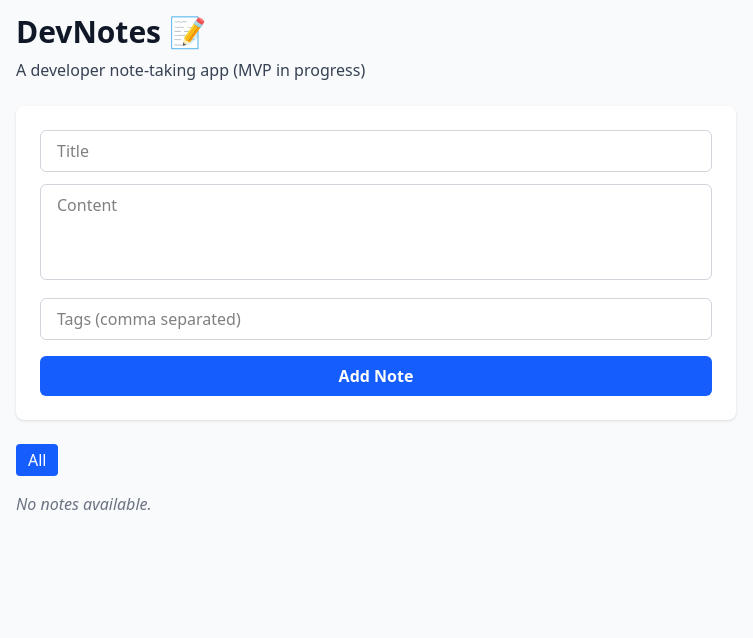
Scenario: adds note with tags and displays them
In the field with placeholder "Title": (376, 151) [40, 130, 712, 172], type "My note"
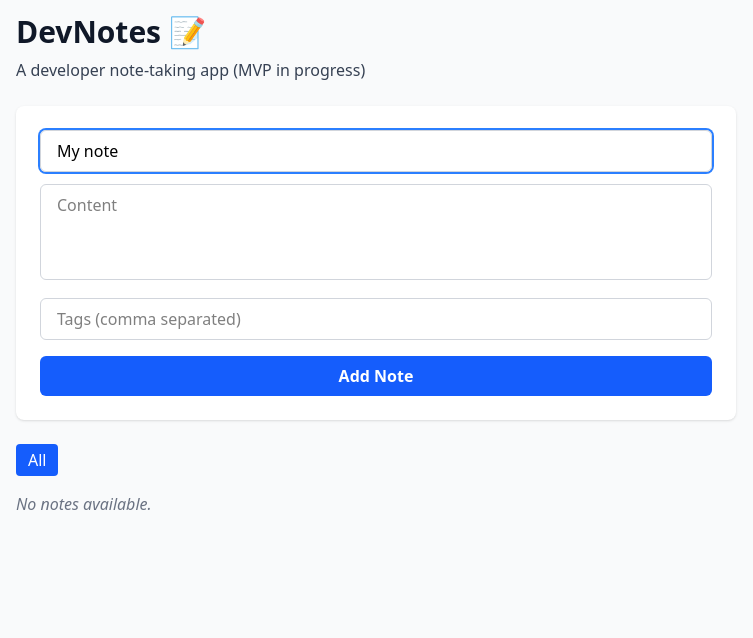
In the text box with placeholder "Content": (376, 232) [40, 184, 712, 280], type "This is content"
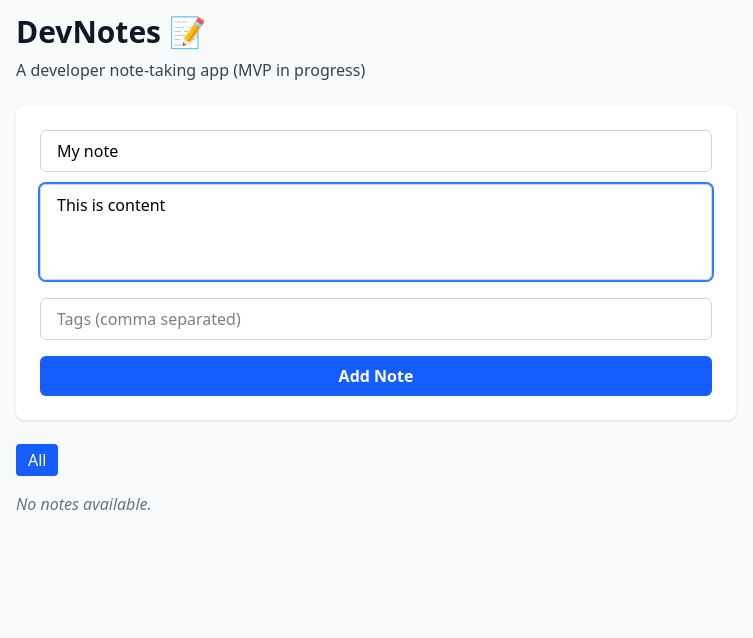
In the field with placeholder "Tags (comma separated)": (376, 319) [40, 298, 712, 340], type "tag1, tag2"
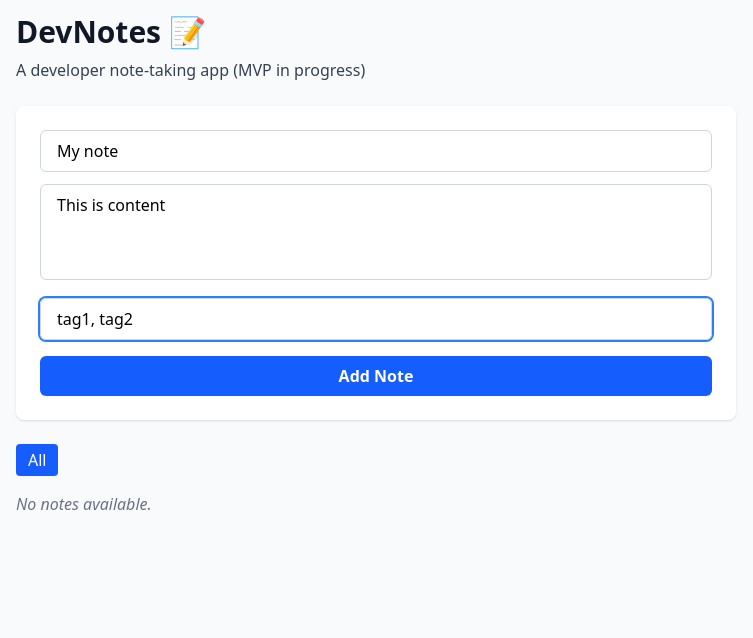
Click the button "Add Note": (376, 376) [40, 356, 712, 396]
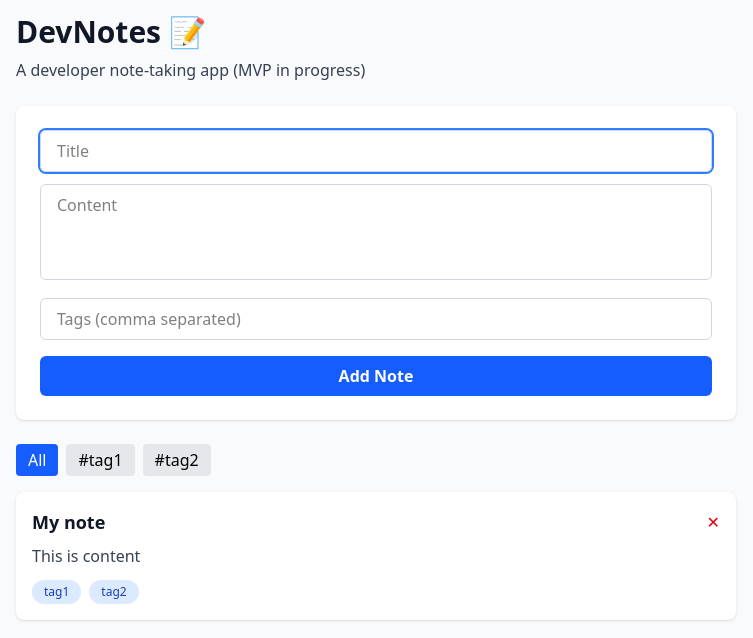
Expected: the heading "My note" is shown, [32, 508, 105, 536]
Expected: the text "This is content" is shown, [32, 545, 140, 567]
Expected: the text "tag1" is shown, [32, 580, 81, 604]
